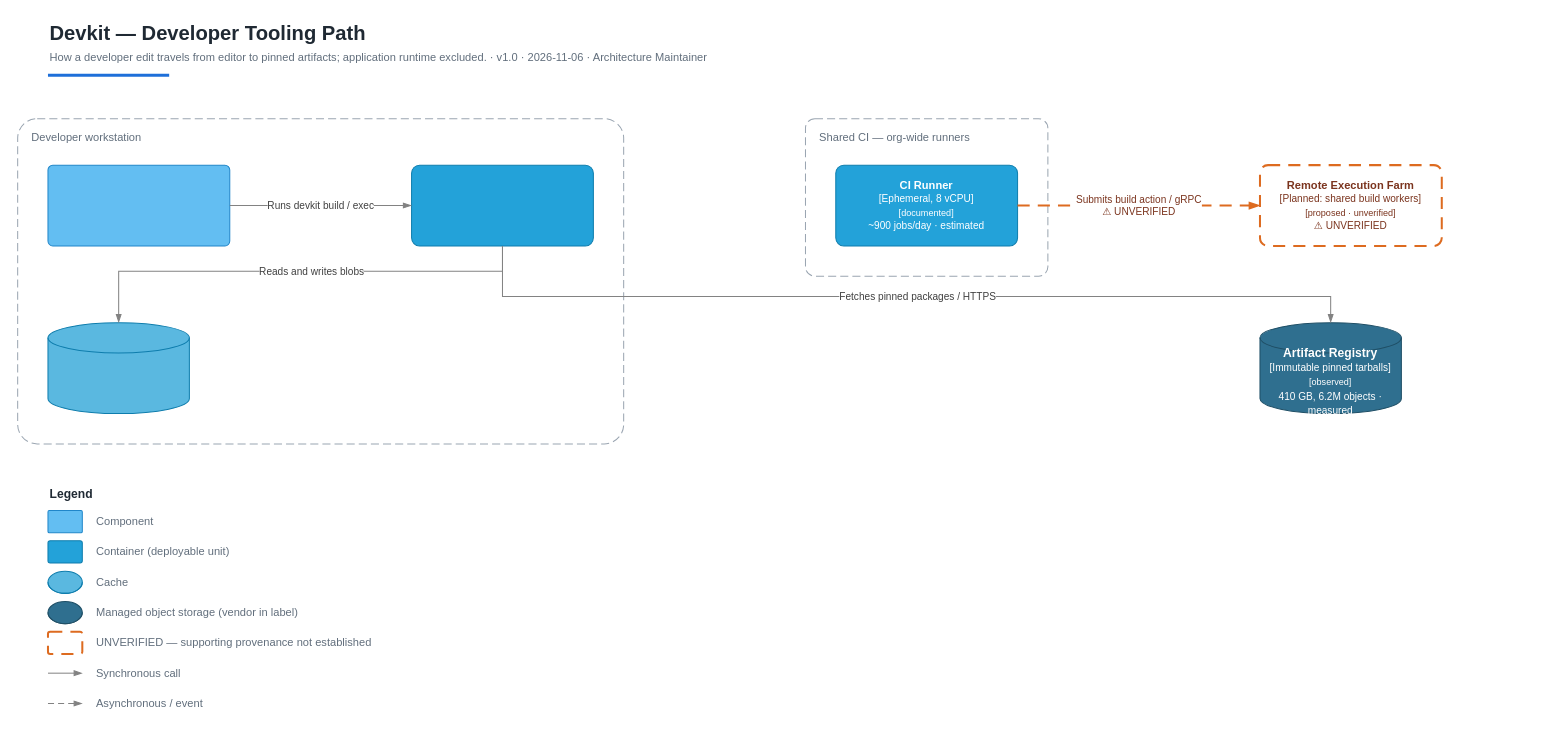
Image size: 1560x731. Some labels were removed from this diagram. Each missing label, with the centre of its shape:
Devkit CLI [Go binary in PATH] [documented] 1.4 s median build · measured: point (502, 205)
Editor Extension [VS Code client, TypeScript] [documented]: point (138, 205)
Local Build Cache [Content-addressed, 12 GB cap] [documented]: point (118, 368)
